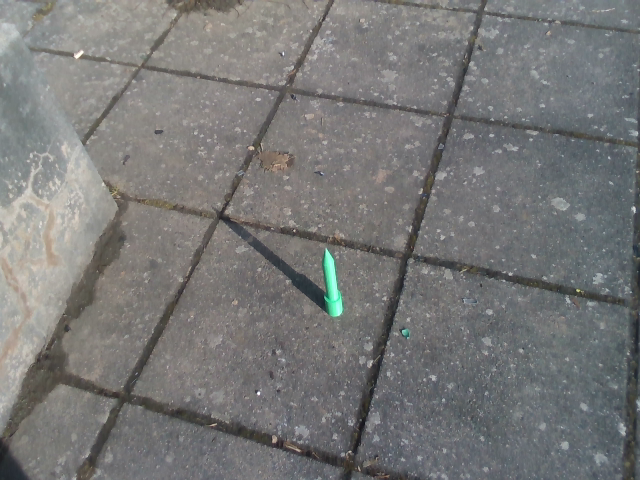Probe: (313, 241, 347, 321)
